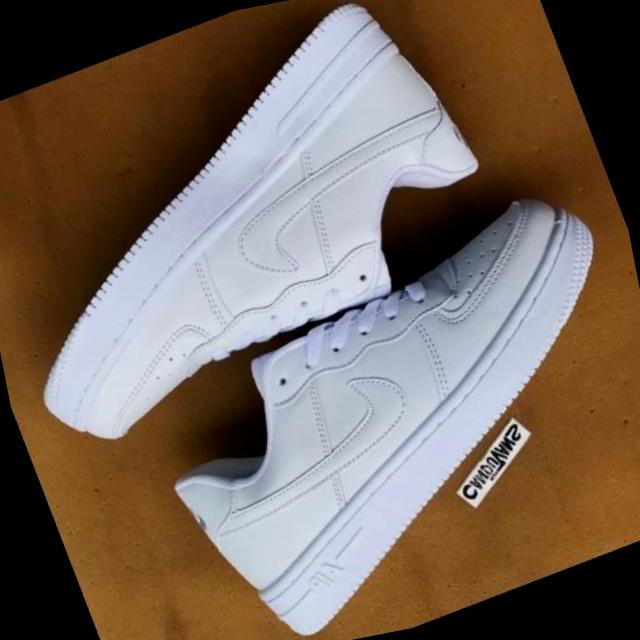nike_fake_airforce: (102, 167, 640, 640), (0, 0, 542, 468)
